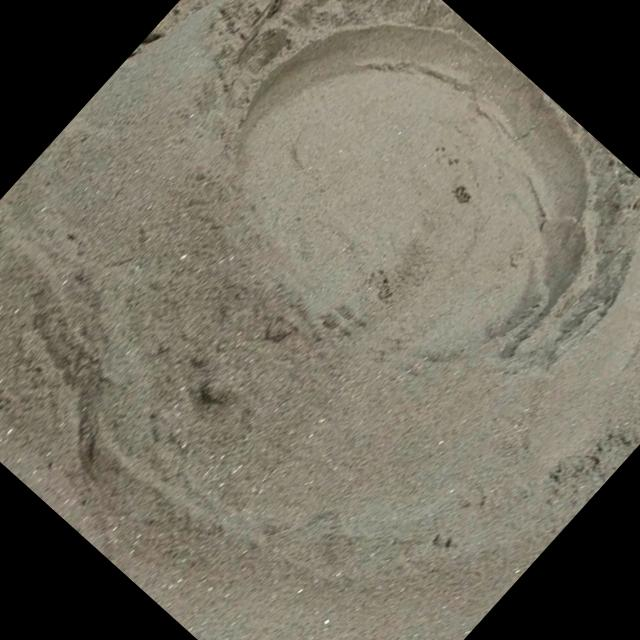C40: (236, 0, 615, 357)
